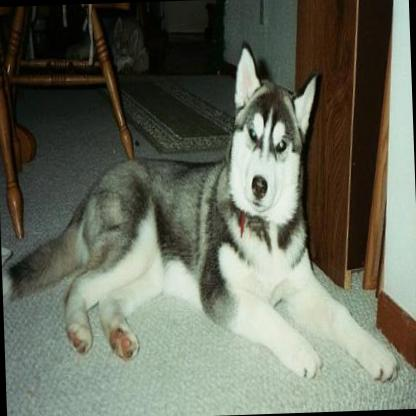Siberian_husky: (0, 37, 399, 416)
